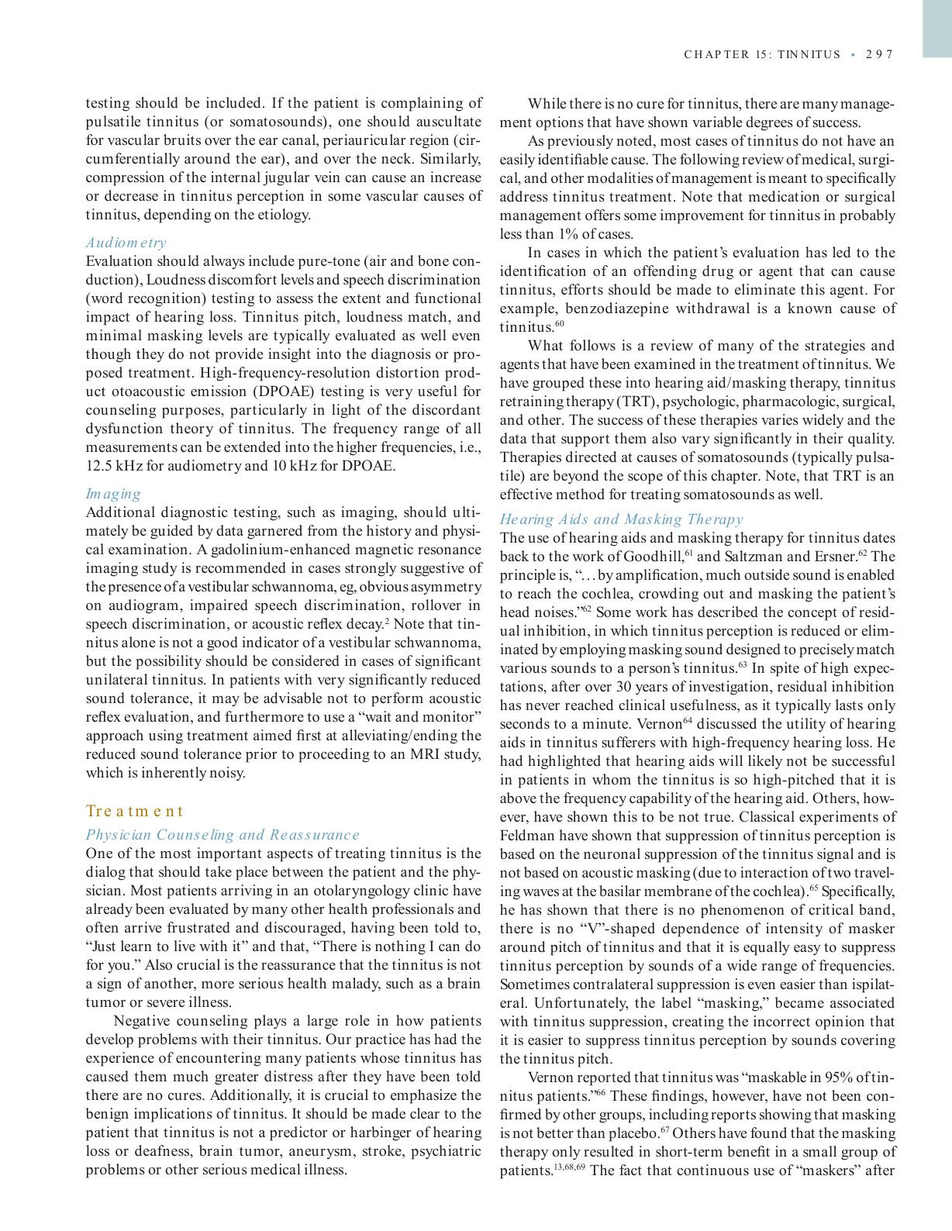header: (683, 48, 841, 60)
section-heading: (84, 803, 184, 818)
sub-section-heading: (85, 827, 360, 844), (499, 511, 745, 528), (84, 235, 167, 253), (84, 487, 142, 502)
text: (497, 530, 899, 1181), (498, 95, 898, 505), (84, 845, 483, 1178), (83, 503, 483, 783), (84, 254, 482, 472), (83, 92, 484, 225)
